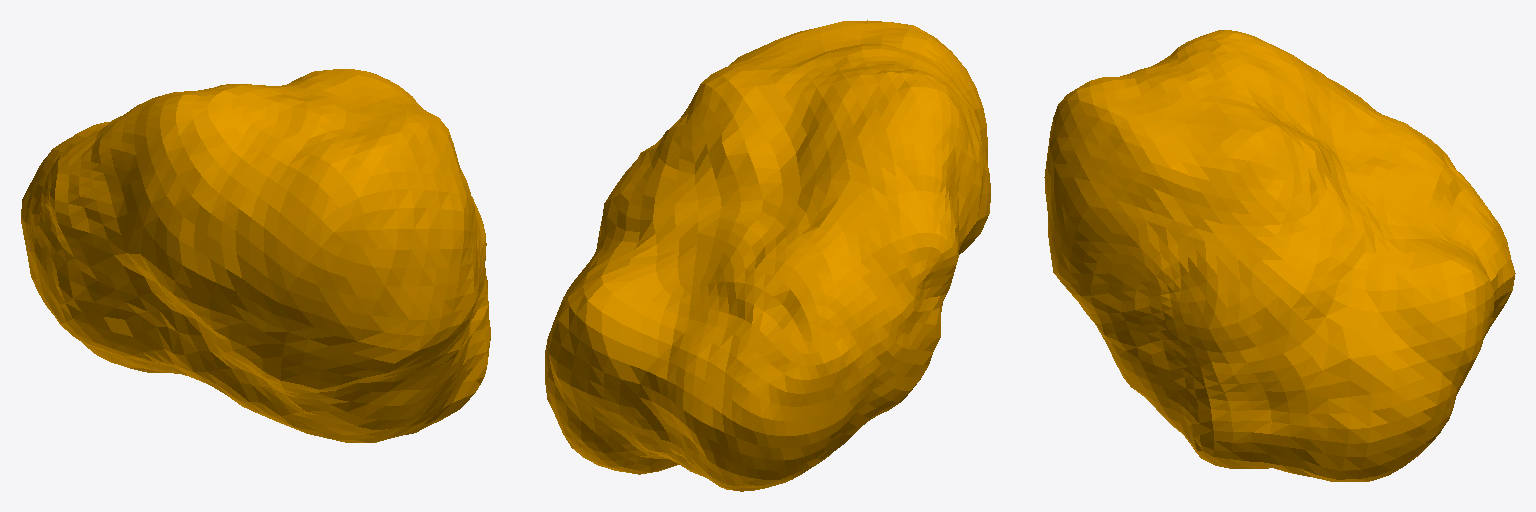
robot.urdf — rock:
<?xml version="1.0" ?>
<robot name="rock">
  <link name="rock">
    <inertial>
      <mass value="0.310"/>
      <origin rpy="0 0 0" xyz="0 0 0"/>
      <inertia ixx="0.000310" ixy="0" ixz="0" iyy="0.000310" iyz="0" izz="0.000310"/>
    </inertial>
    <collision name="rock_collision">
      <origin rpy="0 0 0" xyz="0 0 0"/>
      <geometry>
        <mesh filename="package://rocks/visual/224.dae" scale="1 1 1"/>
      </geometry>
    </collision>
    <visual name="rock_visual">
      <origin rpy="0 0 0" xyz="0 0 0"/>
      <geometry>
        <mesh filename="package://rocks/visual/224.dae" scale="1 1 1"/>
      </geometry>
    </visual>
  </link>
</robot>

--- Render facts (derived) ---
3 views of the same robot in one strip: view 1: azimuth 30°, elevation 25°; view 2: azimuth 150°, elevation 25°; view 3: azimuth 270°, elevation 25° (orthographic).
Robot: rock — 1 links, 0 joints (none); root link rock; default pose: every joint at zero.
Links seen in each view (by area): view 1: rock; view 2: rock; view 3: rock.
Link boxes in pixels (x1,y1,x2,y2): rock: [21, 69, 490, 442]; rock: [545, 20, 990, 491]; rock: [1044, 30, 1515, 481].
Bounding box of the posed robot: 0.0724 × 0.0865 × 0.0711 m (x, y, z).
Meshes: 1 distinct files referenced, 1 mesh visuals loaded (1 Collada DAE).